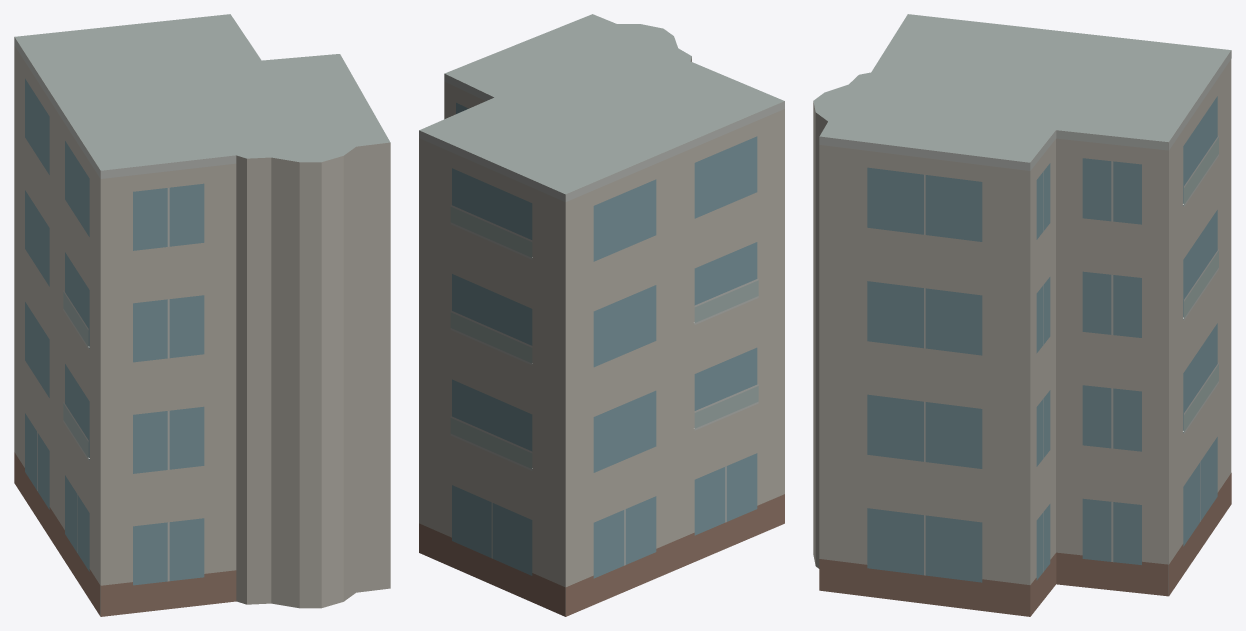
Rendered from survey-upis-32464677.glb.
3 views of the same model, side by side, from view 1: azimuth 30°, elevation 25°; view 2: azimuth 150°, elevation 25°; view 3: azimuth 270°, elevation 25° (orthographic). The views are drawn at different scales.
Parts seen in each view (by area): view 1: survey-upis-32464677.tmp; view 2: survey-upis-32464677.tmp; view 3: survey-upis-32464677.tmp.
Part boxes in pixels (x1,y1,x2,y2): survey-upis-32464677.tmp: (14,14,390,616); survey-upis-32464677.tmp: (419,14,784,616); survey-upis-32464677.tmp: (813,14,1231,616).
Size of the model in its own units: 9.28 by 13.2 by 11.02.
